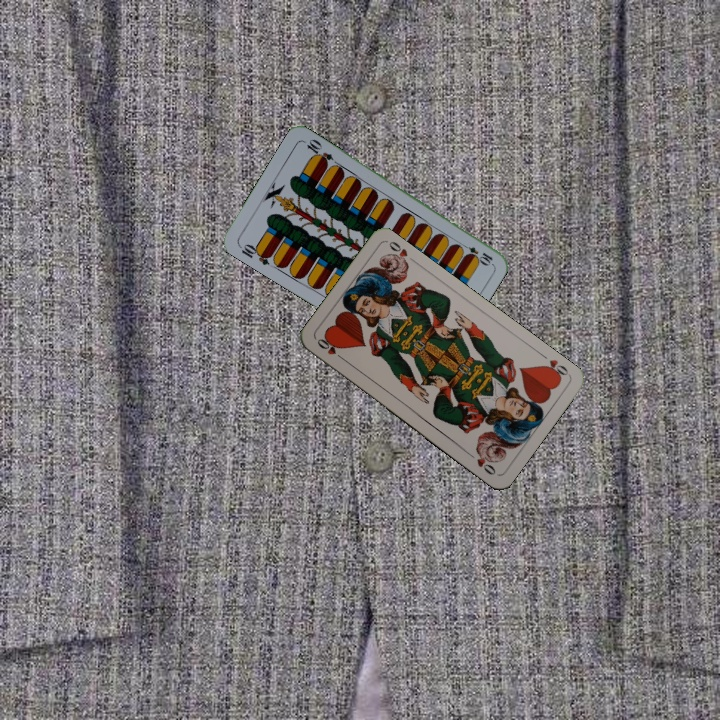E10: (235, 240, 274, 268), (457, 240, 495, 267)
HO: (536, 349, 571, 382), (313, 334, 348, 364)
